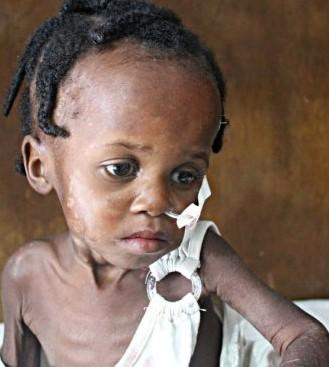Stunting: (52, 49, 236, 296)
